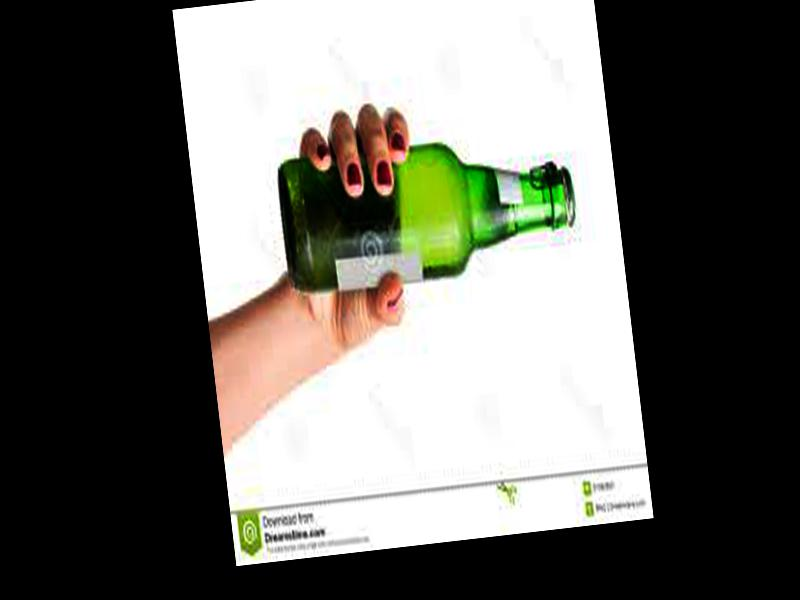Beer: (275, 119, 582, 300)
